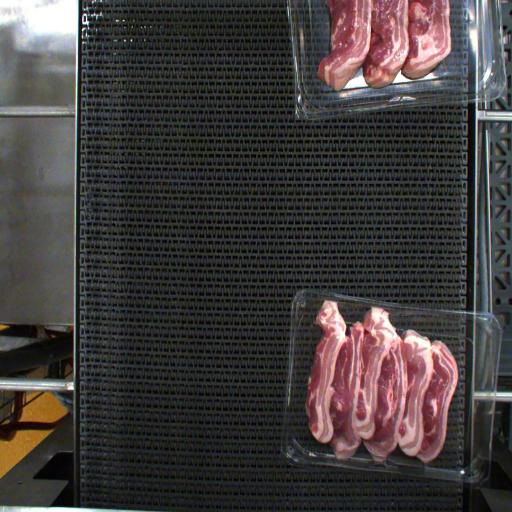packaging-error: (370, 297, 393, 320), (329, 451, 352, 467)
